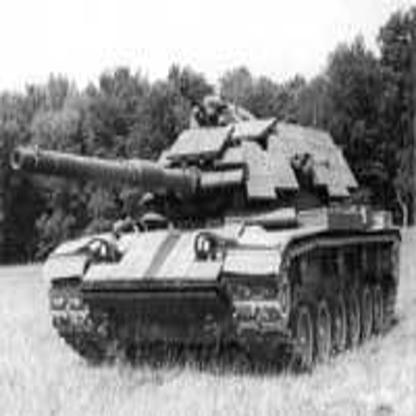Tank: (6, 85, 406, 378)
